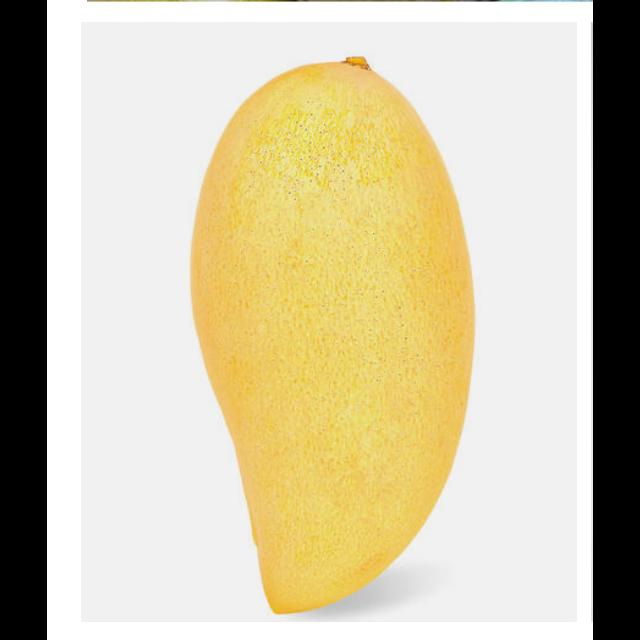mango: (193, 58, 475, 611)
